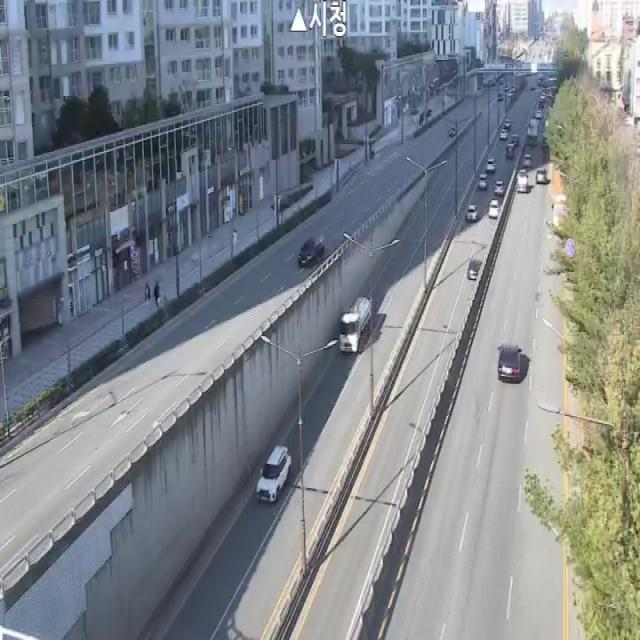Car: (256, 445, 292, 504), (498, 344, 522, 381), (298, 236, 325, 268), (467, 259, 482, 280), (466, 204, 478, 222), (535, 168, 547, 183), (489, 199, 498, 218), (478, 173, 487, 189), (494, 181, 504, 195), (523, 154, 531, 168), (487, 158, 494, 172), (503, 119, 511, 131), (448, 127, 457, 137), (500, 129, 508, 140), (536, 110, 541, 119)
Truck: (340, 297, 370, 354), (516, 169, 528, 193)
